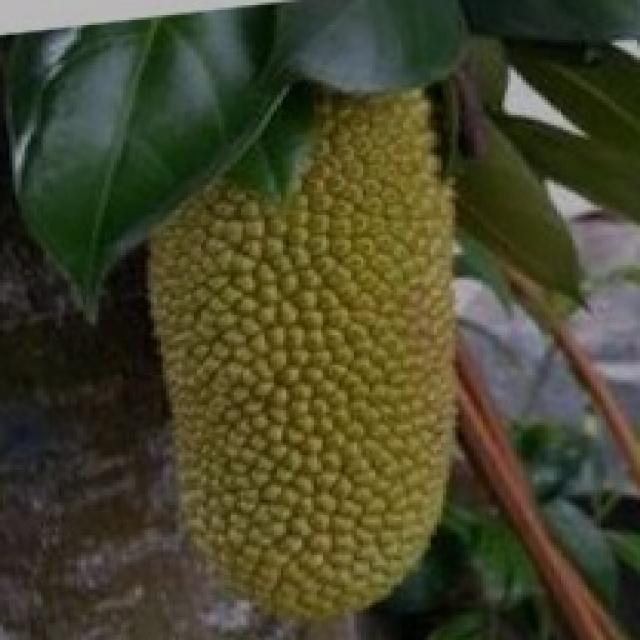Fruit: (95, 45, 520, 415), (108, 257, 517, 640)
